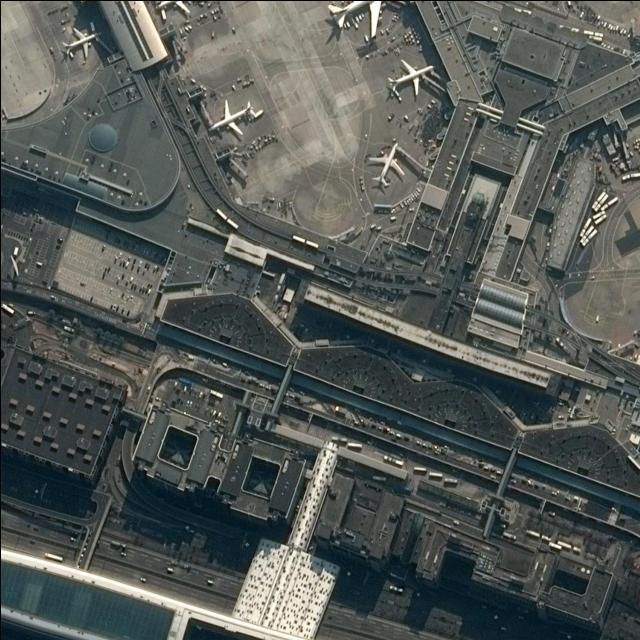Aircraft: (323, 0, 397, 37), (209, 96, 257, 138), (385, 62, 430, 98), (367, 145, 401, 187), (62, 26, 100, 57), (158, 0, 203, 22)
